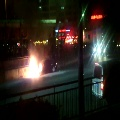fire: (23, 56, 42, 79)
